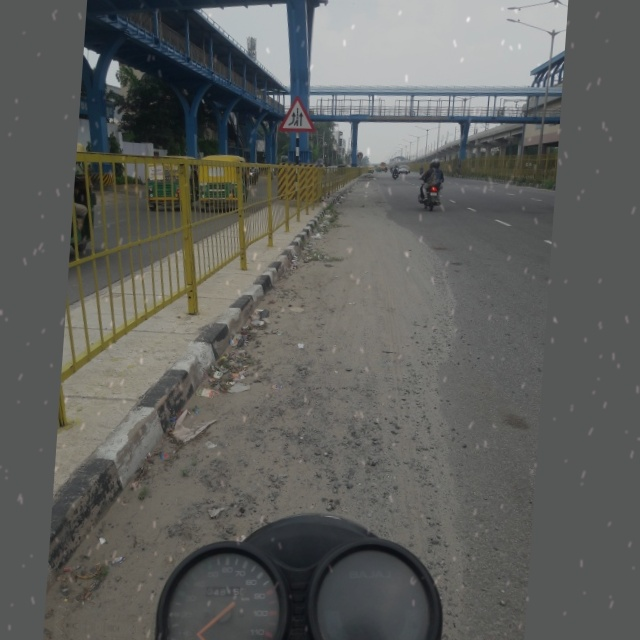Merge_Traffic_Ahead: (274, 85, 321, 137)
